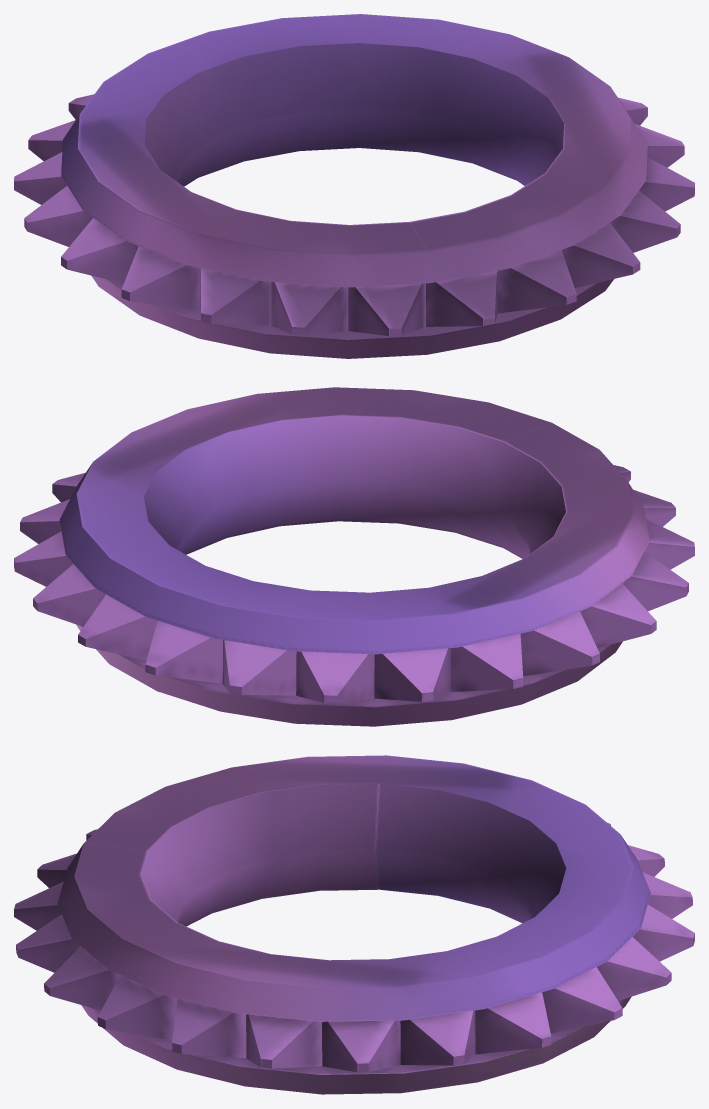
File: Gear_Animation.FBX
3 renders of one model, top to bottom at view 1: azimuth 30°, elevation 25°; view 2: azimuth 150°, elevation 25°; view 3: azimuth 270°, elevation 25°, orthographic.
Visible parts, largest first — view 1: Shank Gear; view 2: Shank Gear; view 3: Shank Gear.
Part boxes in pixels (box(x1,y1,x2,y2)): Shank Gear: box(14, 14, 694, 358); Shank Gear: box(14, 387, 694, 726); Shank Gear: box(14, 755, 694, 1094).
Size of the model in its own units: 37.27 by 6.64 by 37.09.
1 material, 1 textured.
